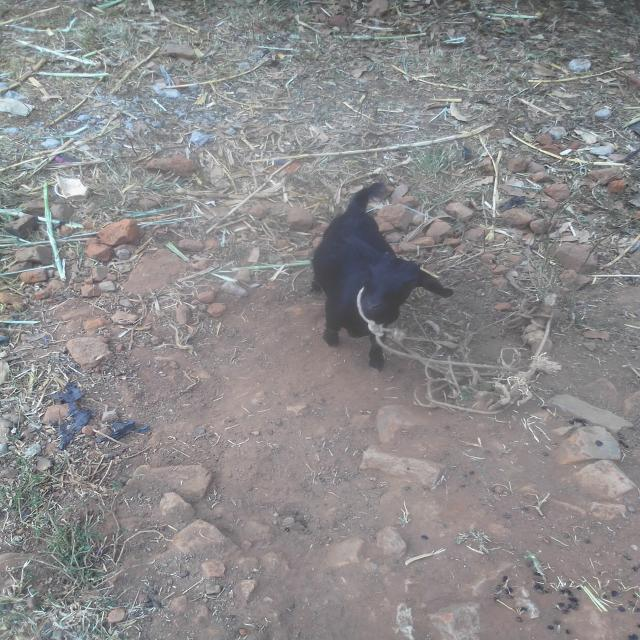goat: (252, 157, 490, 381)
